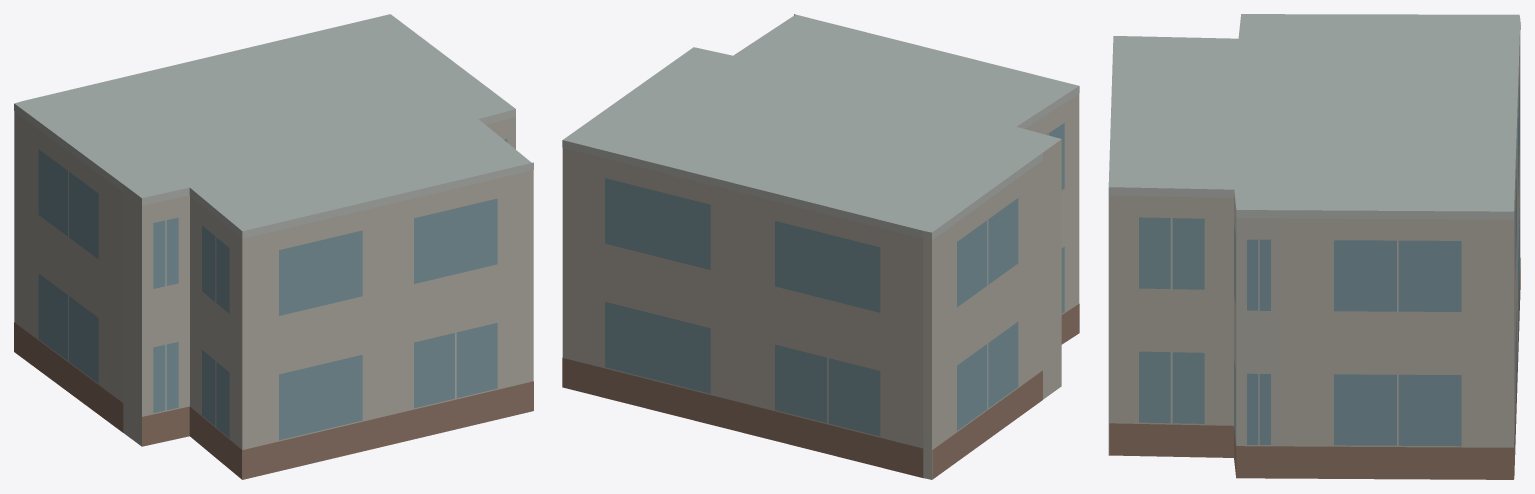
Rendered from survey-upis-32496309.glb.
3 views of the same model, side by side, from view 1: azimuth 30°, elevation 25°; view 2: azimuth 150°, elevation 25°; view 3: azimuth 270°, elevation 25° (orthographic). The views are drawn at different scales.
Parts seen in each view (by area): view 1: survey-upis-32496309.tmp; view 2: survey-upis-32496309.tmp; view 3: survey-upis-32496309.tmp.
Part boxes in pixels (left/top/right/bottom): survey-upis-32496309.tmp: left=14, top=14, right=533, bottom=479; survey-upis-32496309.tmp: left=562, top=14, right=1079, bottom=479; survey-upis-32496309.tmp: left=1108, top=14, right=1520, bottom=479.
Size of the model in its own units: 12.49 by 7.9 by 11.
